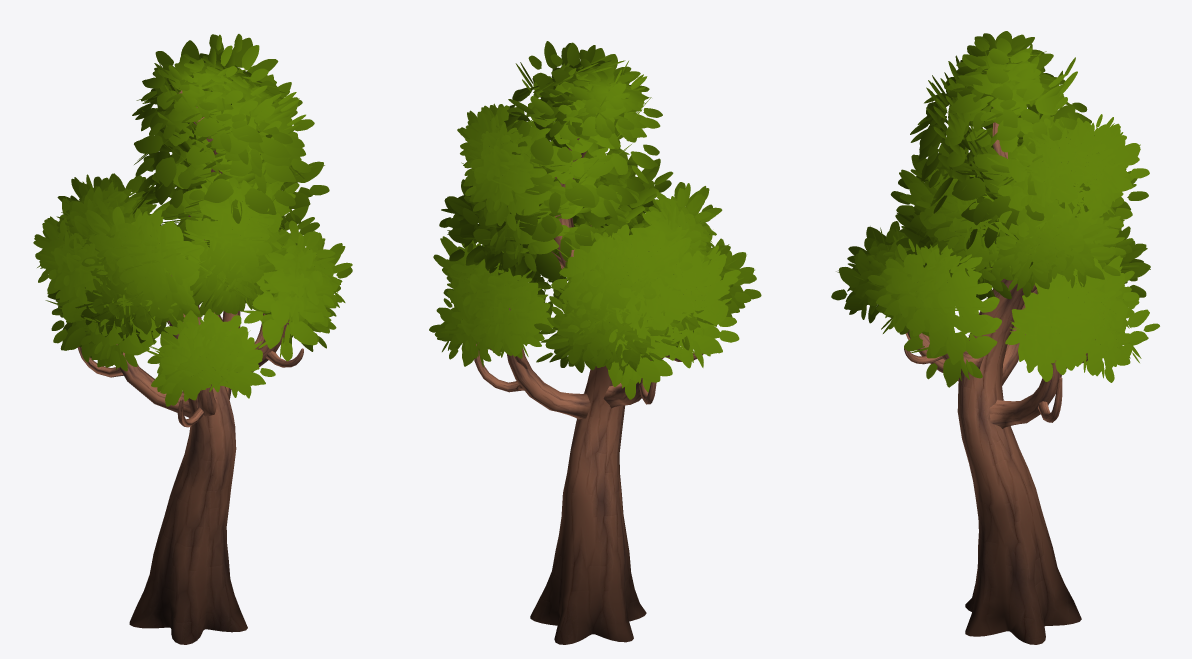
Rendered from CommonTree_2.gltf.
3 views of the same model, side by side, from view 1: azimuth 30°, elevation 25°; view 2: azimuth 150°, elevation 25°; view 3: azimuth 270°, elevation 25° (orthographic). The views are drawn at different scales.
Visible parts, largest first — view 1: CommonTree_2; view 2: CommonTree_2; view 3: CommonTree_2.
Part boxes in pixels (left/top/right/bottom): CommonTree_2: left=33, top=34, right=352, bottom=644; CommonTree_2: left=429, top=41, right=761, bottom=644; CommonTree_2: left=831, top=31, right=1159, bottom=644.
Size of the model in its own units: 4.46 by 7.64 by 4.28.
2 materials, 2 textured.
